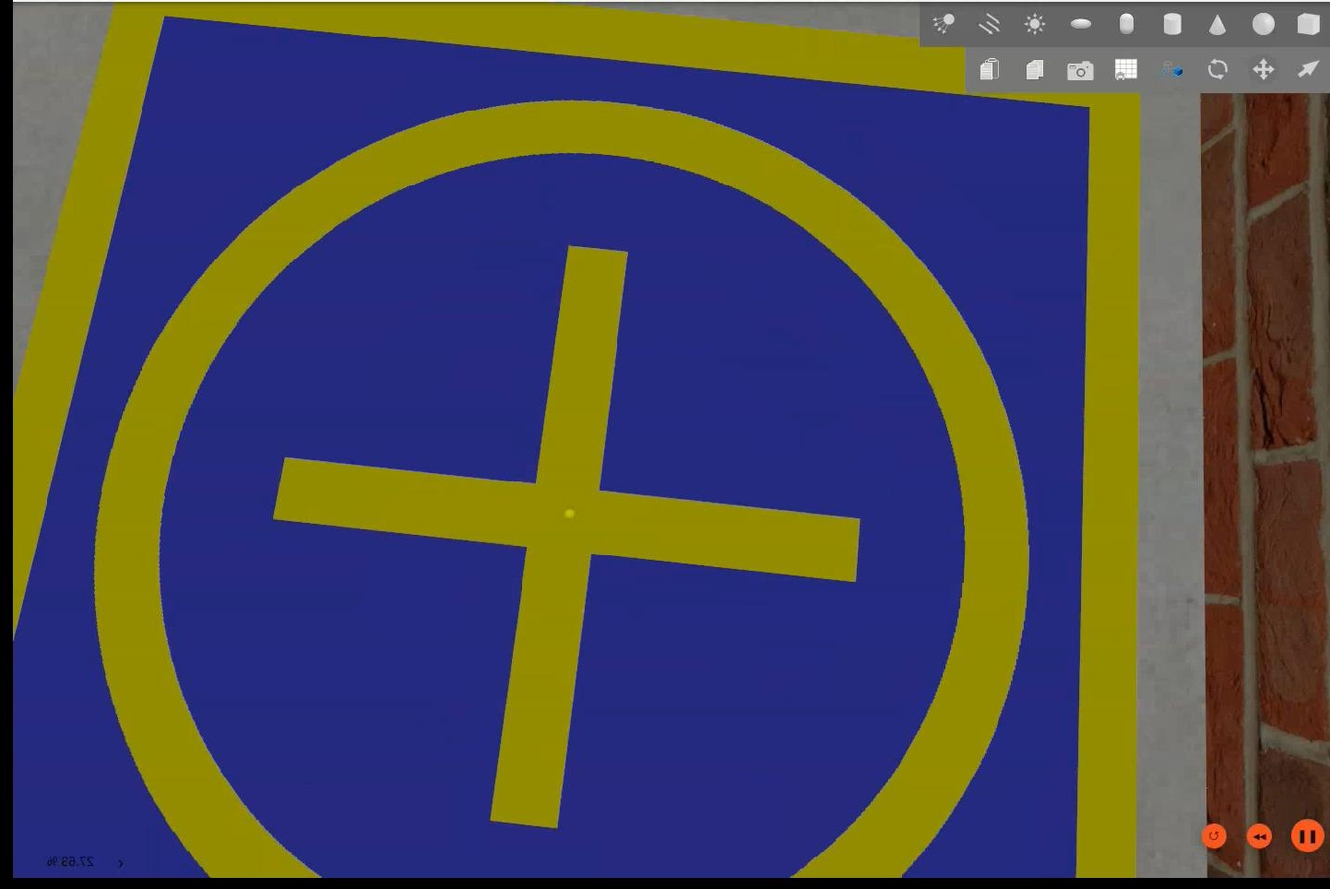small_base: (10, 1, 1138, 879)
